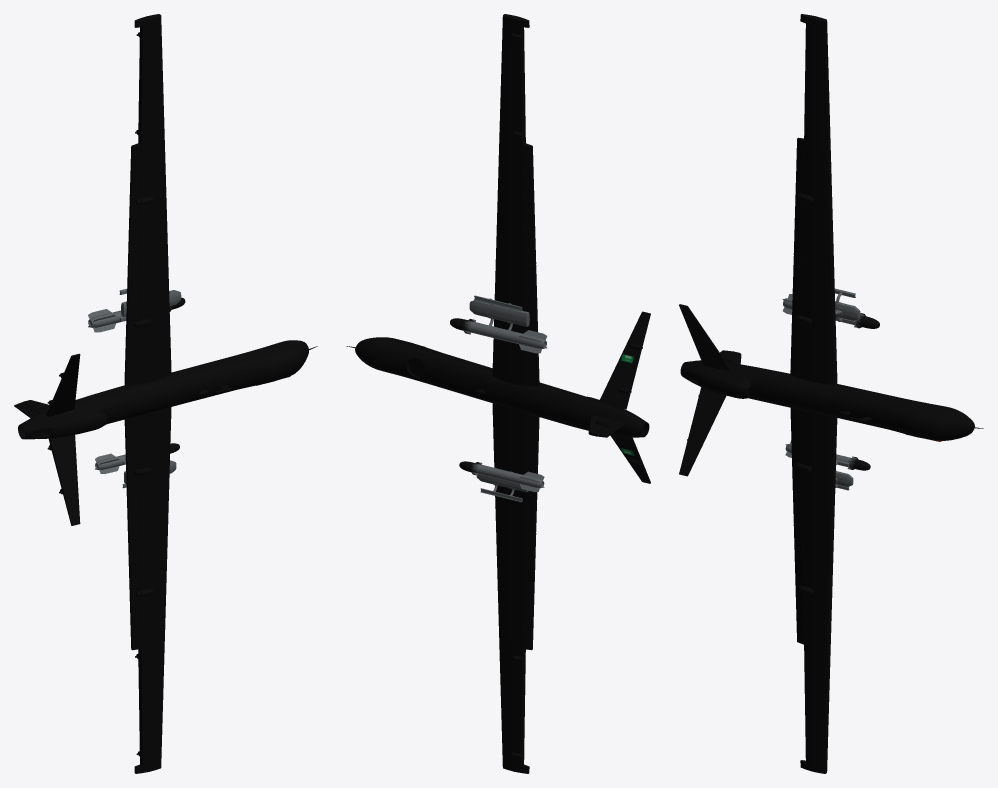
The model's file is reaper_airframe.obj.
3 views of the same model, side by side, from view 1: azimuth 30°, elevation 25°; view 2: azimuth 150°, elevation 25°; view 3: azimuth 330°, elevation 25° (orthographic).
Parts seen in each view (by area): view 1: defaultMaterial.008; view 2: defaultMaterial.008; view 3: defaultMaterial.008.
Part boxes in pixels (x1,y1,x2,y2): defaultMaterial.008: [14, 14, 317, 773]; defaultMaterial.008: [346, 14, 650, 773]; defaultMaterial.008: [679, 14, 983, 773].
Bounding box in the file's own units: 1.04 × 2.5 × 0.3107.
Materials: 5 (2 with a texture image).
